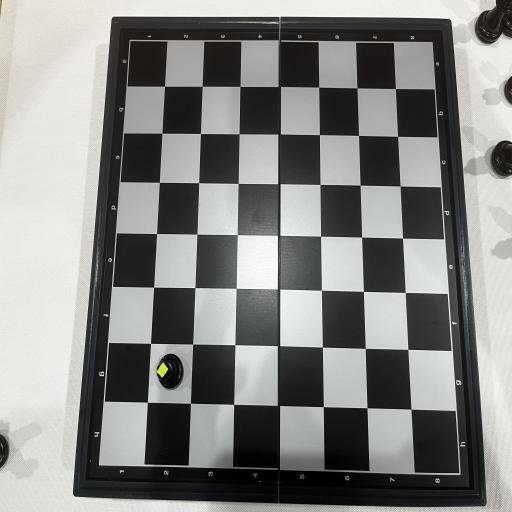Black pawn: (156, 351, 184, 387)
